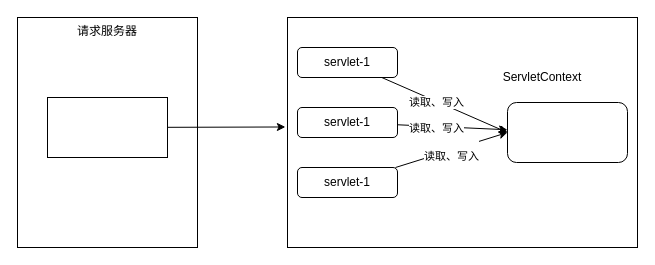
Image size: 655x265. Some labels were removed from this diagram. Here are the shapes that lost their labels. From the top down, the box of each, then its label:
(46, 96, 168, 158): 浏览器
(506, 102, 628, 162): 共享内存
